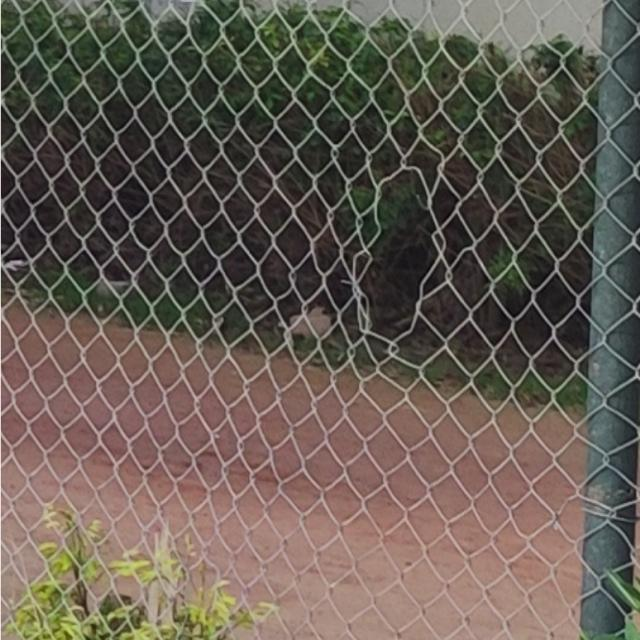fence line: (356, 182, 446, 354)
